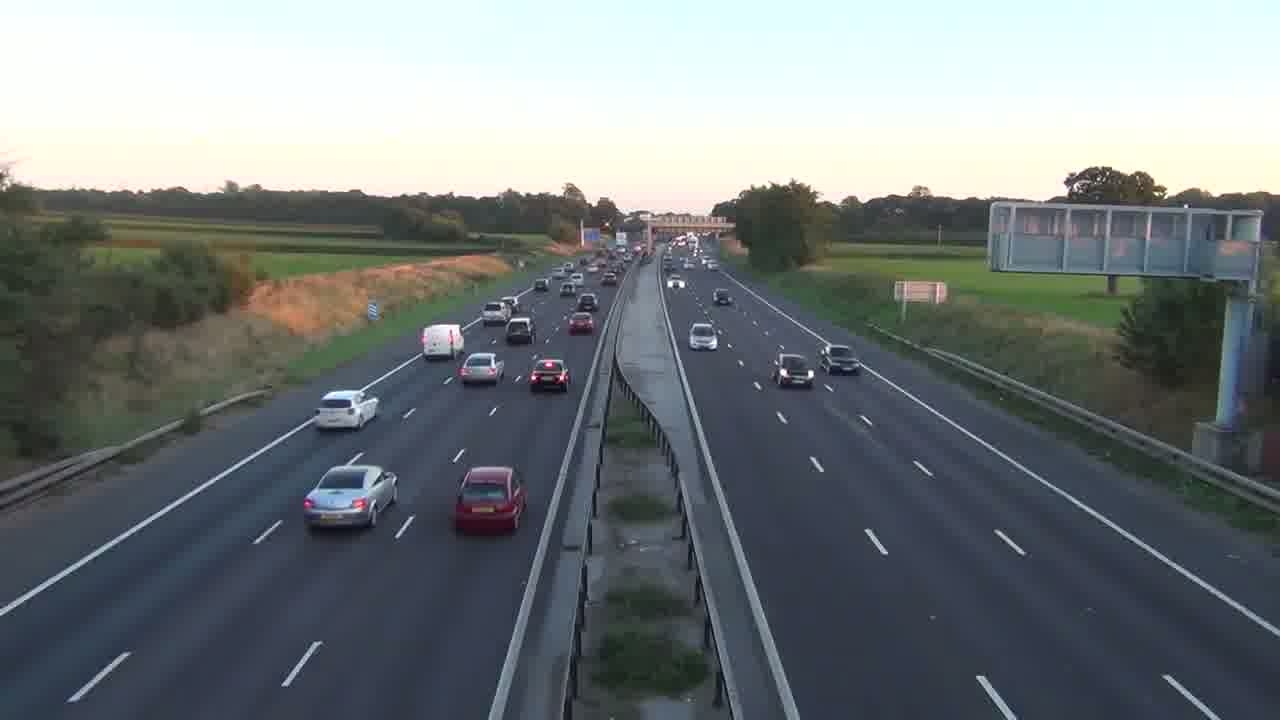car: (303, 463, 399, 529), (452, 465, 529, 534), (317, 388, 380, 430), (771, 351, 816, 389), (458, 351, 504, 387), (529, 356, 571, 393), (689, 321, 719, 351), (567, 312, 595, 335)
truck: (419, 323, 465, 361)
